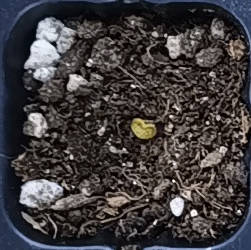pepper seed: (52, 47, 210, 187)
